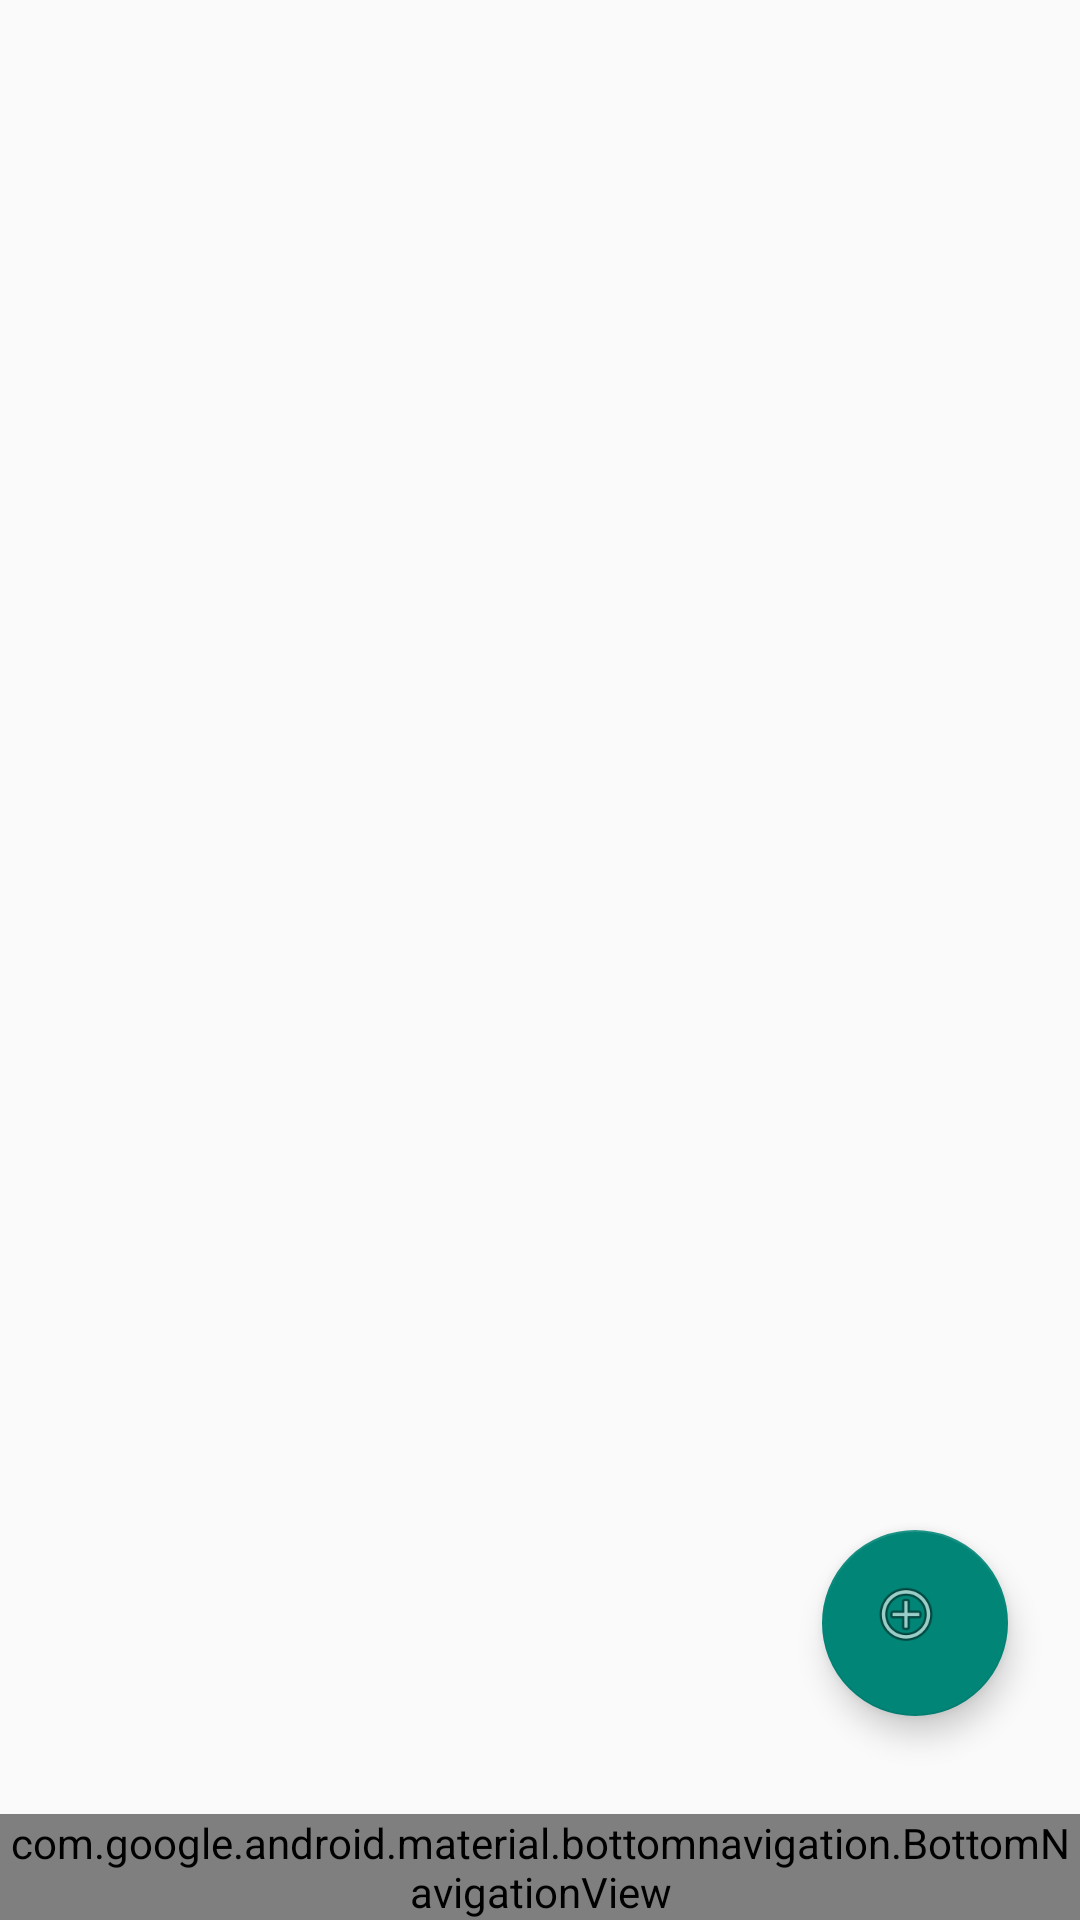

Where to tap for icons on this 1080x1920 app screen, as [x,y]:
add: [915,1623]
